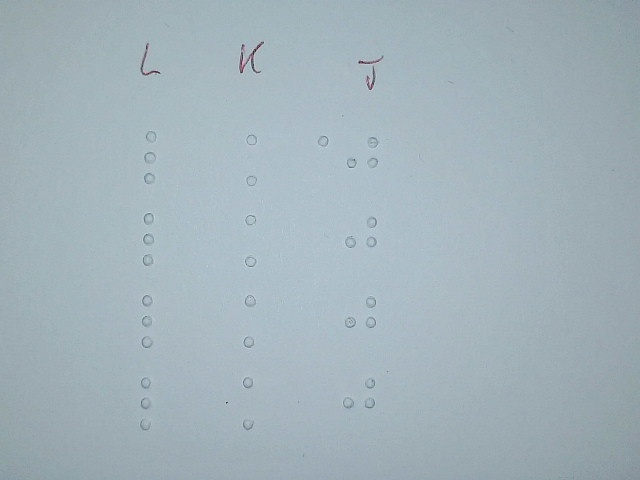J: (344, 127, 380, 188), (343, 208, 379, 269), (342, 287, 378, 348), (341, 369, 377, 430)
K: (234, 128, 284, 191), (235, 209, 285, 272), (233, 288, 283, 351), (234, 372, 284, 435)
L: (133, 126, 183, 189), (132, 206, 182, 269), (129, 289, 179, 352), (129, 373, 179, 436)
